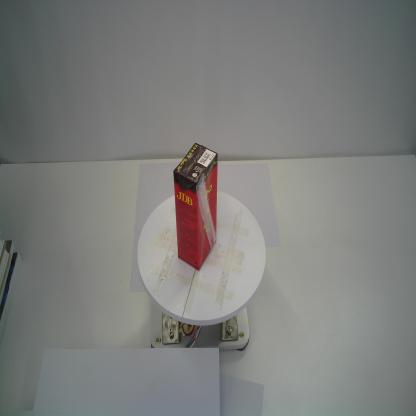Drink: (173, 142, 218, 272)
